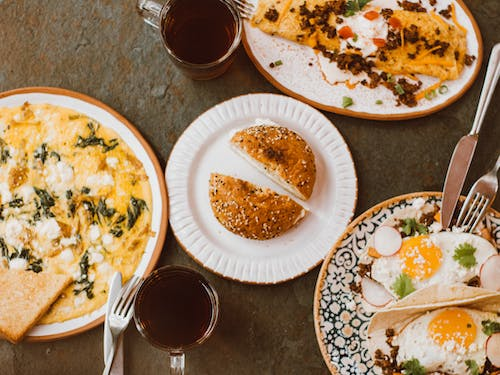knife: (439, 41, 500, 230), (102, 270, 124, 375)
